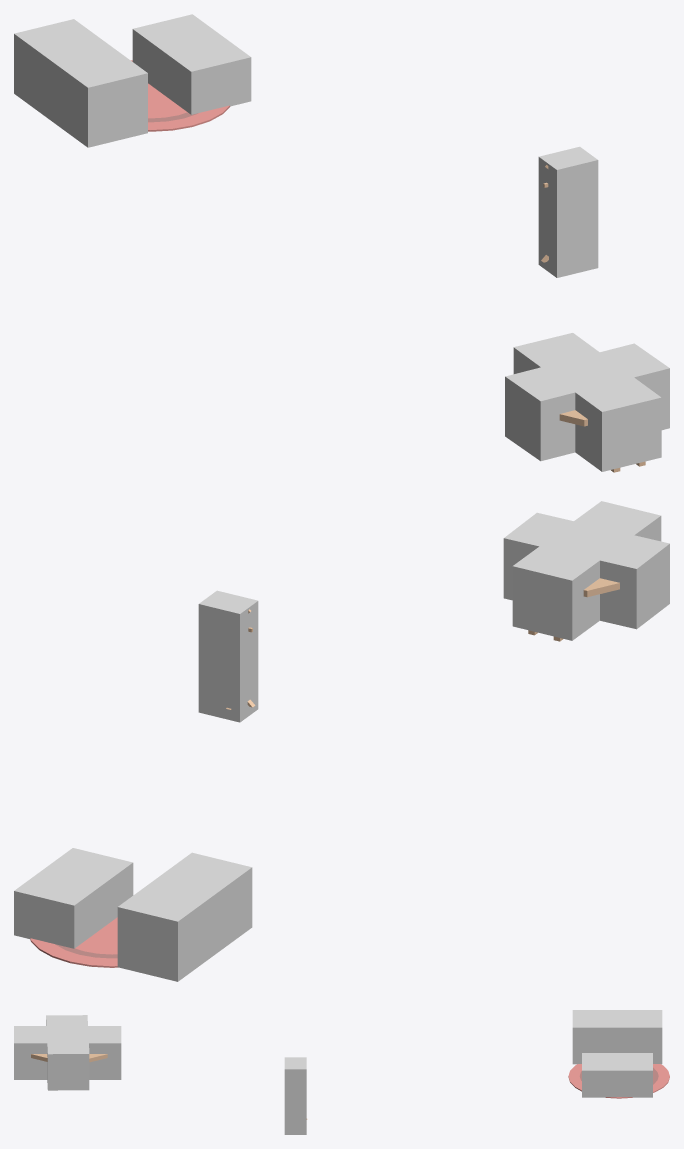
Rendered from Kagu1.gltf.
3 views of the same model, one above another, from view 1: azimuth 30°, elevation 25°; view 2: azimuth 150°, elevation 25°; view 3: azimuth 270°, elevation 25° (orthographic). The views are drawn at different scales.
Parts seen in each view (by area): view 1: COL2, COL4, COL3, COL7, rugRound(Clone); view 2: COL2, COL4, COL3, COL7, rugRound(Clone); view 3: COL2, COL4, COL3, COL7, rugRound(Clone), tableRound(Clone).
Boxes of the visible parts, x1,y1,x2,y2 form: COL2: (505, 333, 669, 471); COL4: (14, 19, 147, 147); COL3: (132, 14, 251, 114); COL7: (538, 146, 598, 277); rugRound(Clone): (131, 60, 230, 131); COL2: (503, 501, 669, 640); COL4: (117, 852, 252, 981); COL3: (14, 848, 133, 948); COL7: (198, 590, 258, 722); rugRound(Clone): (30, 917, 118, 967); COL2: (14, 1015, 121, 1090); COL4: (572, 1010, 662, 1064); COL3: (582, 1053, 652, 1097); COL7: (284, 1057, 306, 1134); rugRound(Clone): (568, 1064, 669, 1098); tableRound(Clone): (31, 1054, 107, 1062).
Bounding box in the file's own units: 1.73 × 0.6551 × 5.94.
